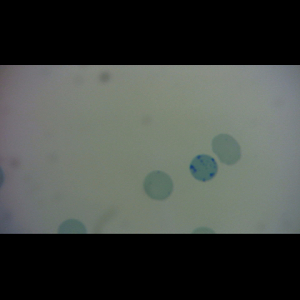aggregate reticulocyte: (188, 153, 219, 183)
punctate reticulocyte: (210, 132, 243, 167), (142, 169, 175, 202)
